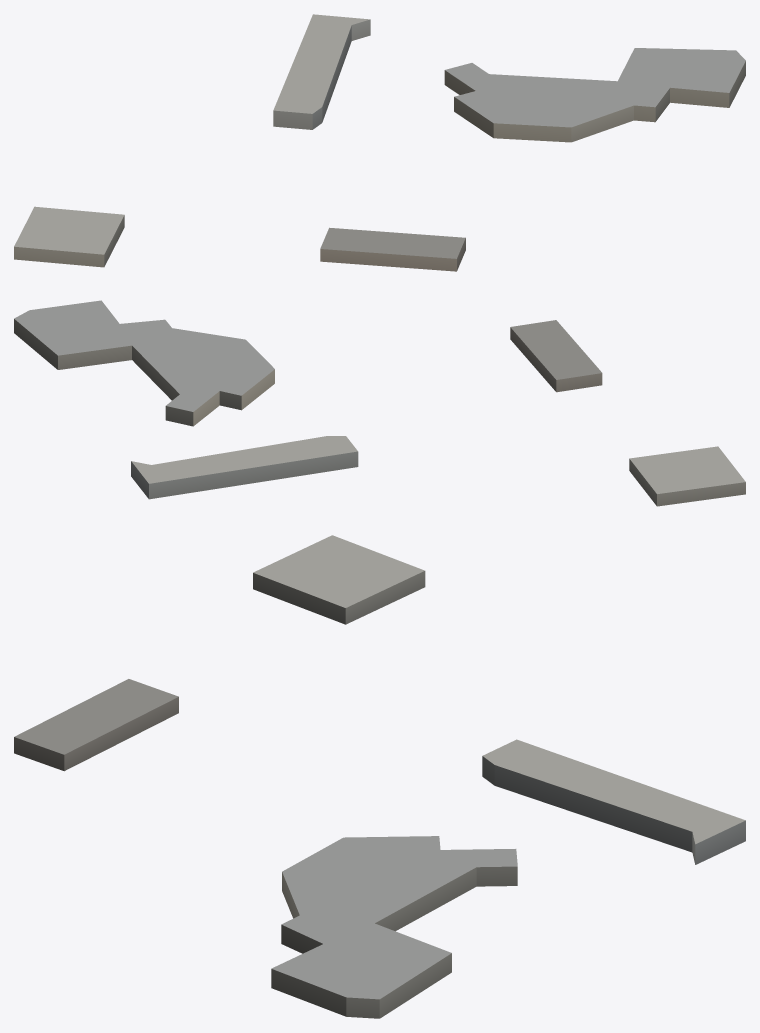
The model's file is bld_7_1.fbx.
The picture shows the model from 3 angles, top to bottom: view 1: azimuth 30°, elevation 25°; view 2: azimuth 150°, elevation 25°; view 3: azimuth 270°, elevation 25°; orthographic projection. The views are drawn at different scales.
Visible parts, largest first — view 1: bld_7_1_LOD0; view 2: bld_7_1_LOD0; view 3: bld_7_1_LOD0.
Part boxes in pixels (bbox=[...]): bld_7_1_LOD0: bbox=[14, 14, 745, 271]; bld_7_1_LOD0: bbox=[14, 300, 745, 506]; bld_7_1_LOD0: bbox=[14, 535, 745, 1018].
Bounding box in the file's own units: 495 × 10.28 × 328.
